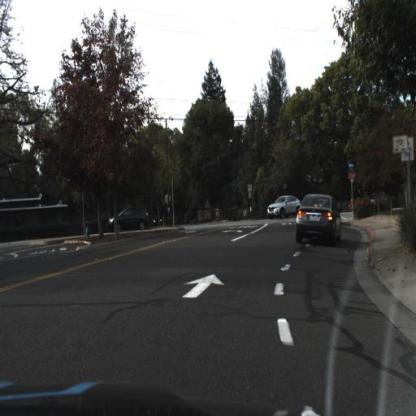car: (297, 195, 341, 248), (109, 207, 156, 234), (266, 195, 306, 223)
